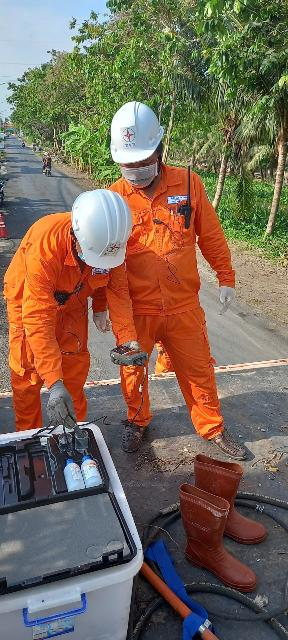gloves: (41, 376, 75, 429), (94, 305, 126, 337), (218, 284, 245, 314)
helmet: (73, 187, 126, 265), (108, 99, 167, 169)
shoes: (113, 418, 155, 460), (209, 426, 251, 464)
